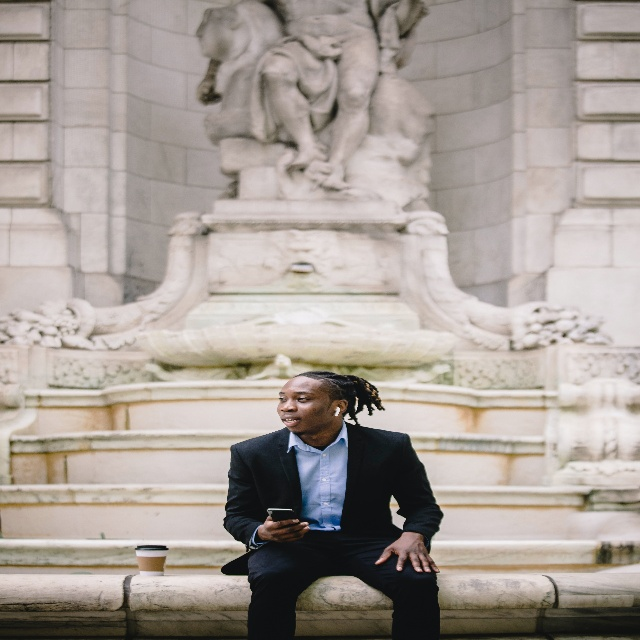Sin_guantes: (374, 528, 441, 574), (259, 516, 310, 539)
